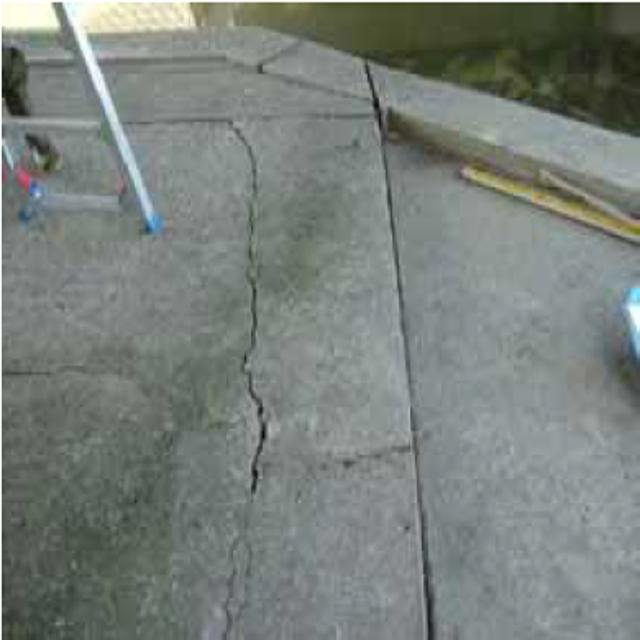crack: (223, 104, 278, 530)
